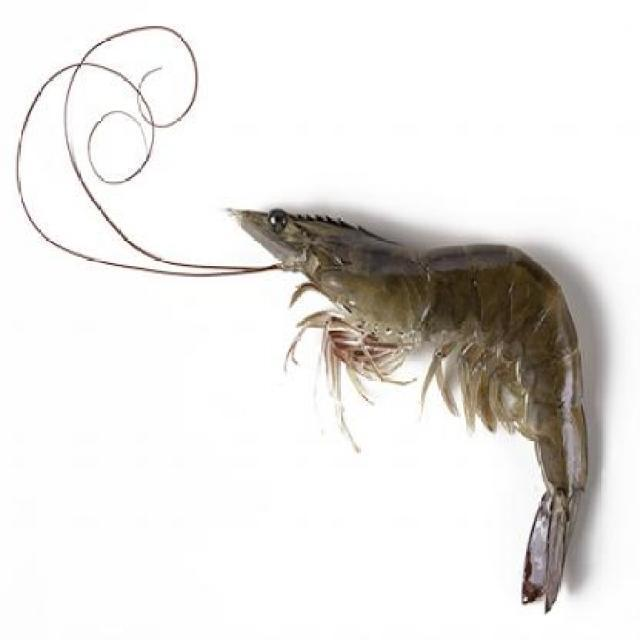shrimp: (221, 187, 594, 610)
